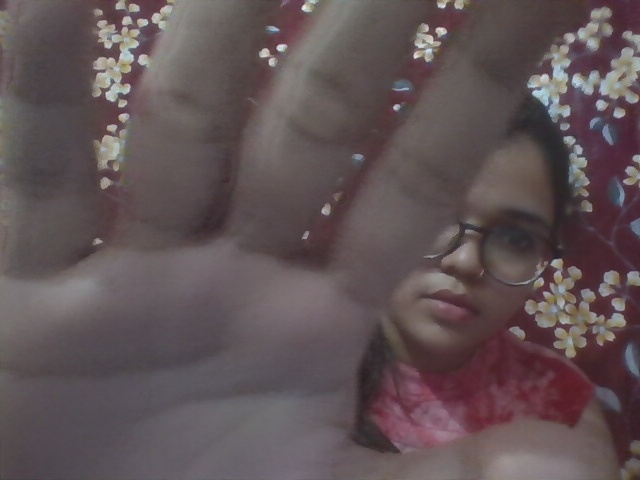Blinding: (8, 16, 395, 466)
